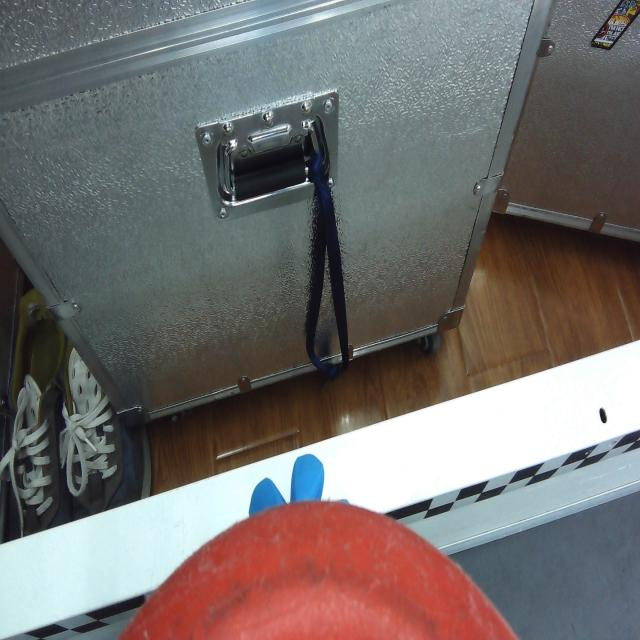zblue-Stake-Head: (247, 452, 351, 515)
